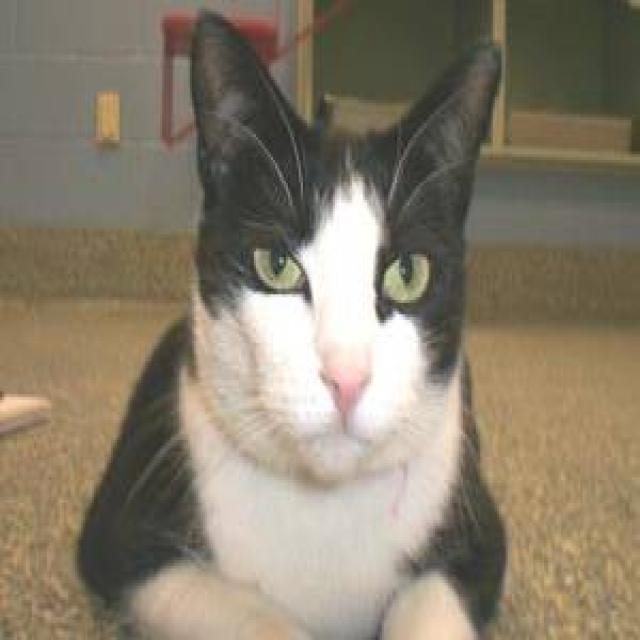cat: (75, 6, 508, 637)
